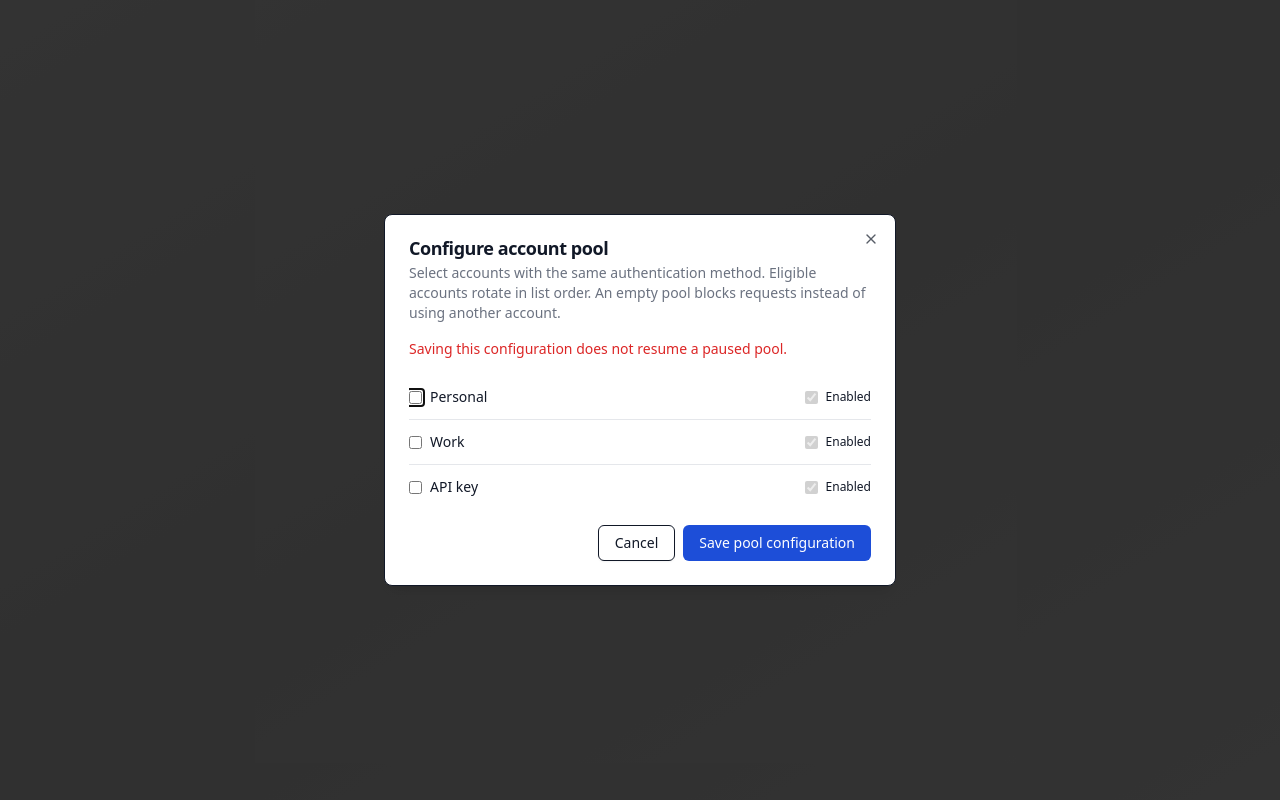
account pool configuration dialog › allows an empty blocking pool but rejects mixed auth methods before saving
Expected: the button "Save pool configuration" is enabled, [683,525,871,561]
Step 1. Click the checkbox labelled "Personal" → (416, 397), box [409,390,422,404]
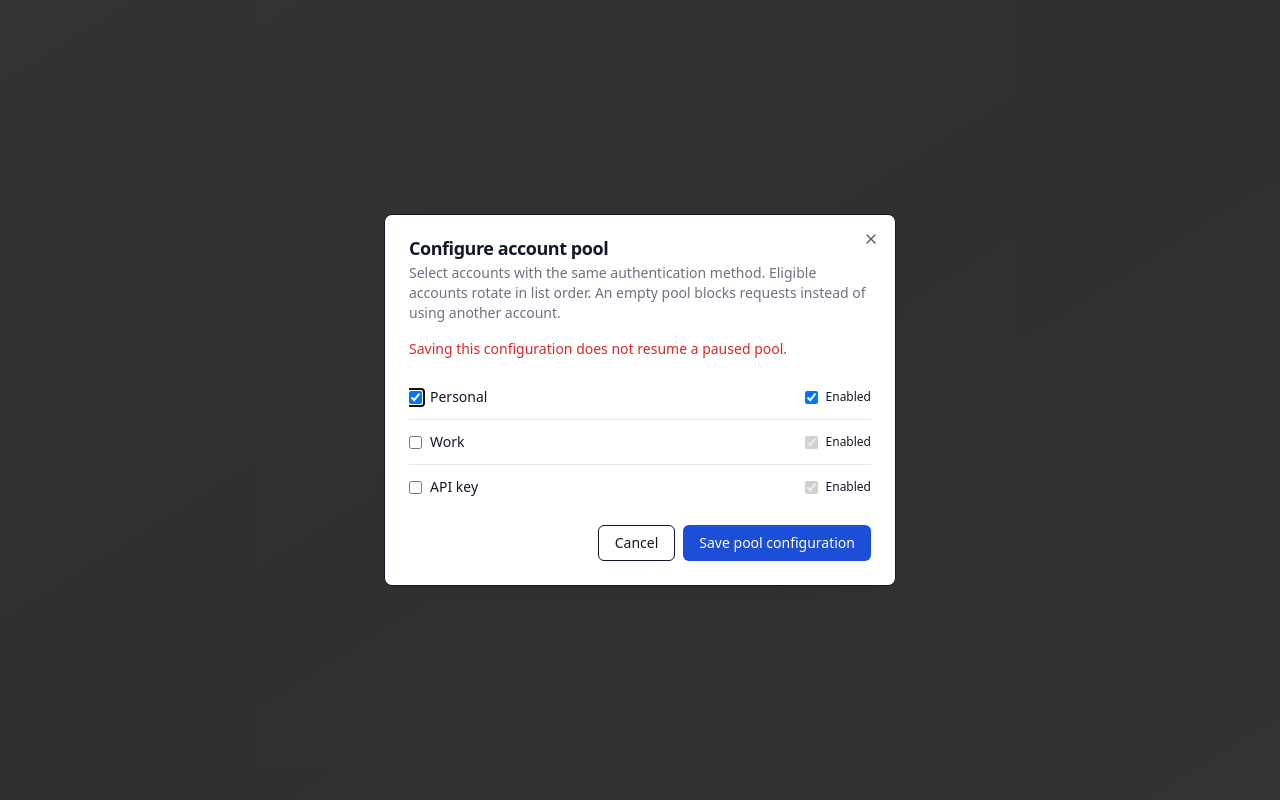
Expected: the button "Save pool configuration" is enabled, [683,525,871,561]
Step 2. Click the checkbox labelled "API key" → (416, 487), box [409,480,422,494]
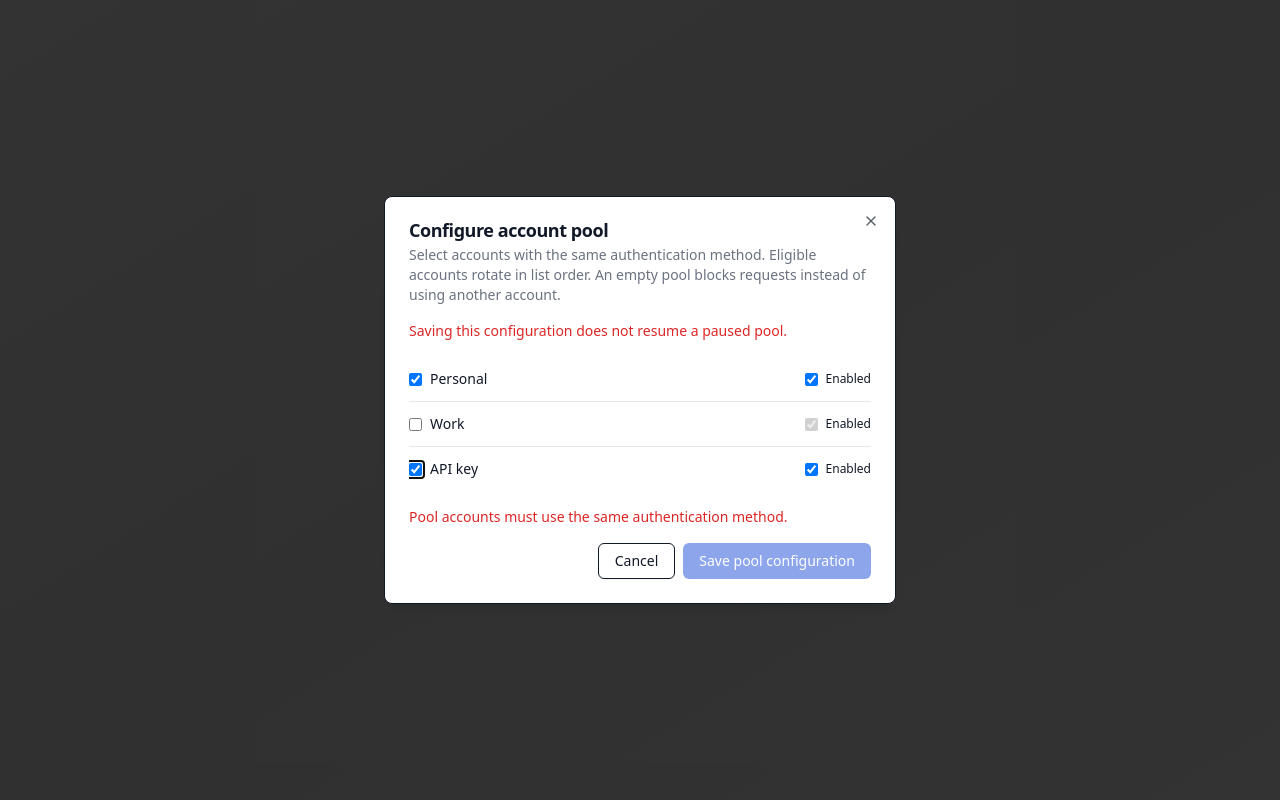
Expected: the button "Save pool configuration" is disabled, [683,543,871,579]
